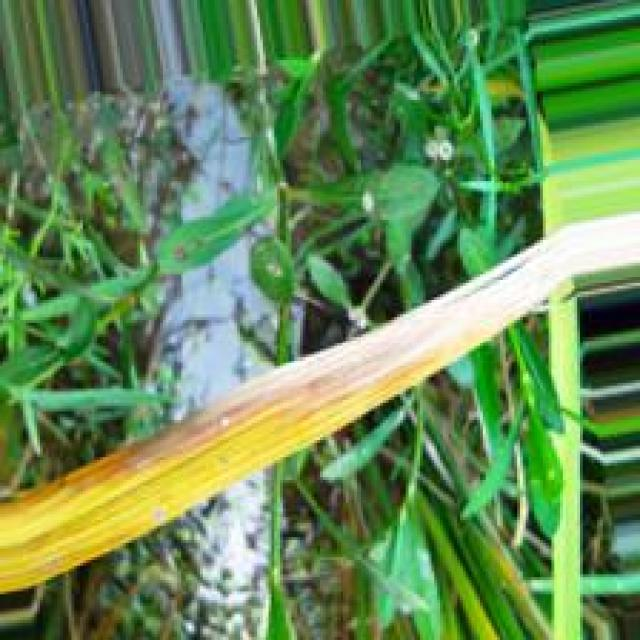Bacterial_Leaf_Blight: (2, 208, 638, 503)
